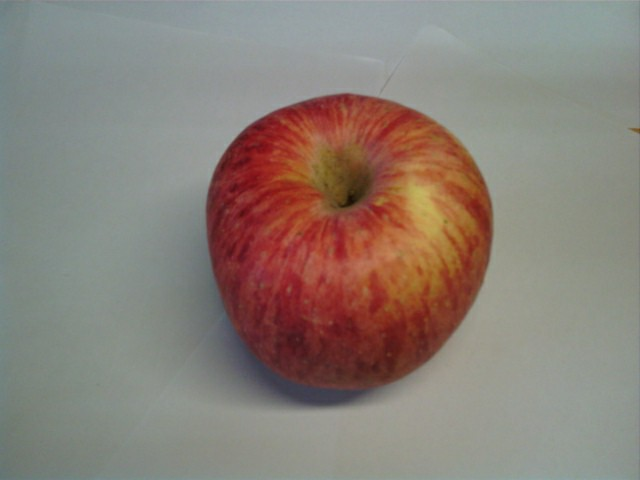normal_apple: (210, 92, 494, 395)
